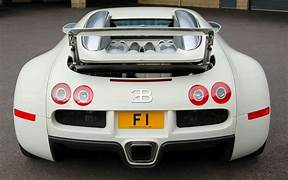number_plate: (117, 112, 164, 128)
